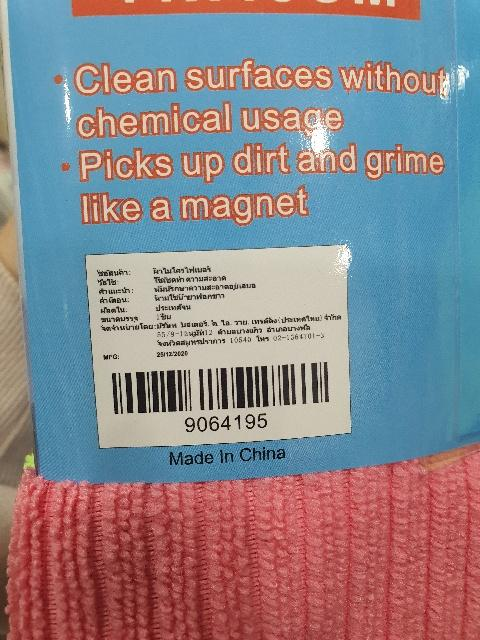Barcode: (103, 354, 338, 433)
